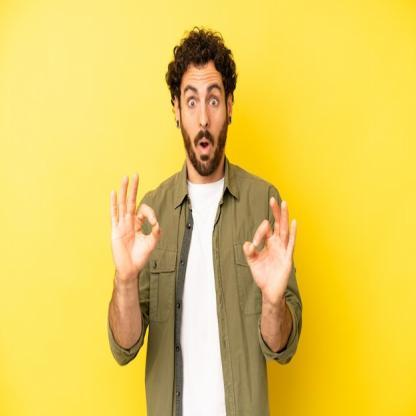ok: (242, 194, 304, 306), (107, 168, 164, 277)
